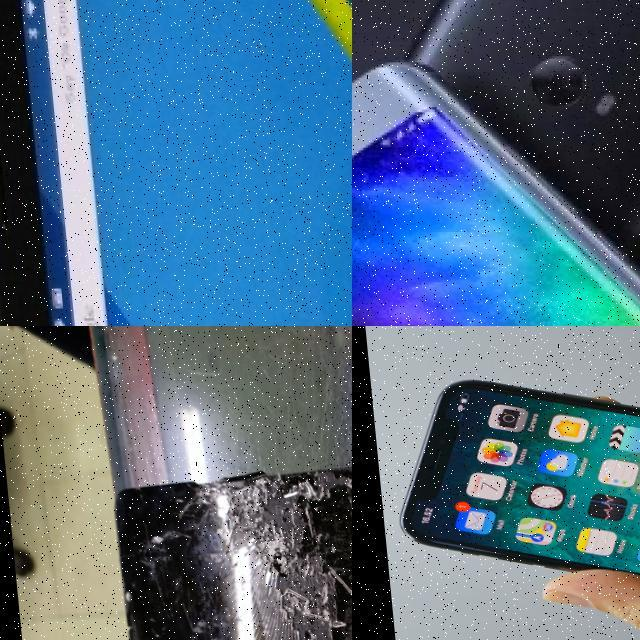screen crack: (100, 448, 352, 640)
